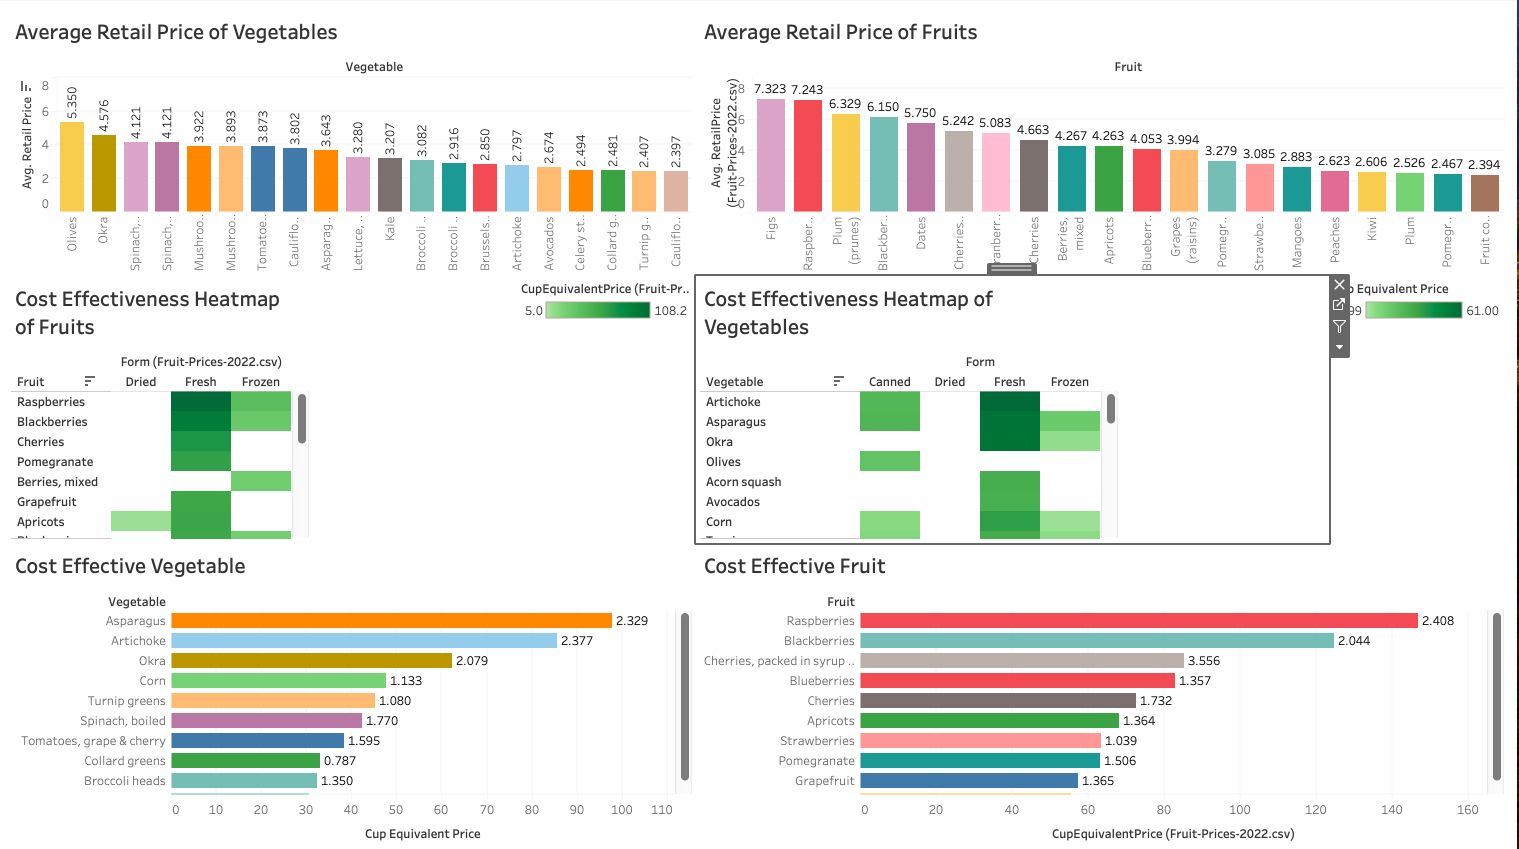

The dashboard page shown, as its layout file describes it:
{"tool":"tableau","page":{"name":"Dashboard 1","canvas":[1000,1000],"units":"permille","ordinal":0},"visuals":[{"type":"worksheet","title":"Sheet 2","mark":"Automatic","rows":["RetailPrice"],"cols":["Vegetable"],"box":[5.3,9.3,454.4,310.5]},{"type":"worksheet","title":"Sheet 1","mark":"Automatic","rows":["RetailPrice (Fruit-Prices-2022.csv)"],"cols":["Fruit"],"box":[459.7,9.3,535,310.5]},{"type":"worksheet","title":"Sheet 5","mark":"Automatic","rows":["Fruit"],"cols":["Form (Fruit-Prices-2022.csv)"],"box":[5.3,319.8,336.4,310.5]},{"type":"legend","title":"Sheet 5","param":"[federated.1awv4w51o70nbp15ona0v0b824pv].[sum:CupEquivalentPrice (Fruit-Prices-2","box":[341.7,319.8,118.1,310.5]},{"type":"worksheet","title":"Sheet 6","mark":"Automatic","rows":["Vegetable"],"cols":["Form"],"box":[459.7,319.8,417,310.5]},{"type":"legend","title":"Sheet 6","param":"[federated.1awv4w51o70nbp15ona0v0b824pv].[sum:CupEquivalentPrice:qk]","box":[876.7,319.8,118.1,310.5]},{"type":"worksheet","title":"Sheet 7","mark":"Automatic","rows":["Vegetable"],"cols":["CupEquivalentPrice"],"box":[5.3,630.2,454.4,360.5]},{"type":"worksheet","title":"Sheet 8","mark":"Automatic","rows":["Fruit"],"cols":["CupEquivalentPrice (Fruit-Prices-2022.csv)"],"box":[459.7,630.2,535,360.5]}]}

Visuals, with their boxes on the dashboard's canvas, which has no fixed pixel size, in thousandths of its width and height (x1, y1, x2, y2). These are canvas units, not pixel positions in the 1519x849 screenshot, which may show the page scaled, cropped or inside an application window:
"Sheet 2" worksheet: locate(5, 9, 460, 320)
"Sheet 1" worksheet: locate(460, 9, 995, 320)
"Sheet 5" worksheet: locate(5, 320, 342, 630)
"Sheet 5" legend: locate(342, 320, 460, 630)
"Sheet 6" worksheet: locate(460, 320, 877, 630)
"Sheet 6" legend: locate(877, 320, 995, 630)
"Sheet 7" worksheet: locate(5, 630, 460, 991)
"Sheet 8" worksheet: locate(460, 630, 995, 991)
